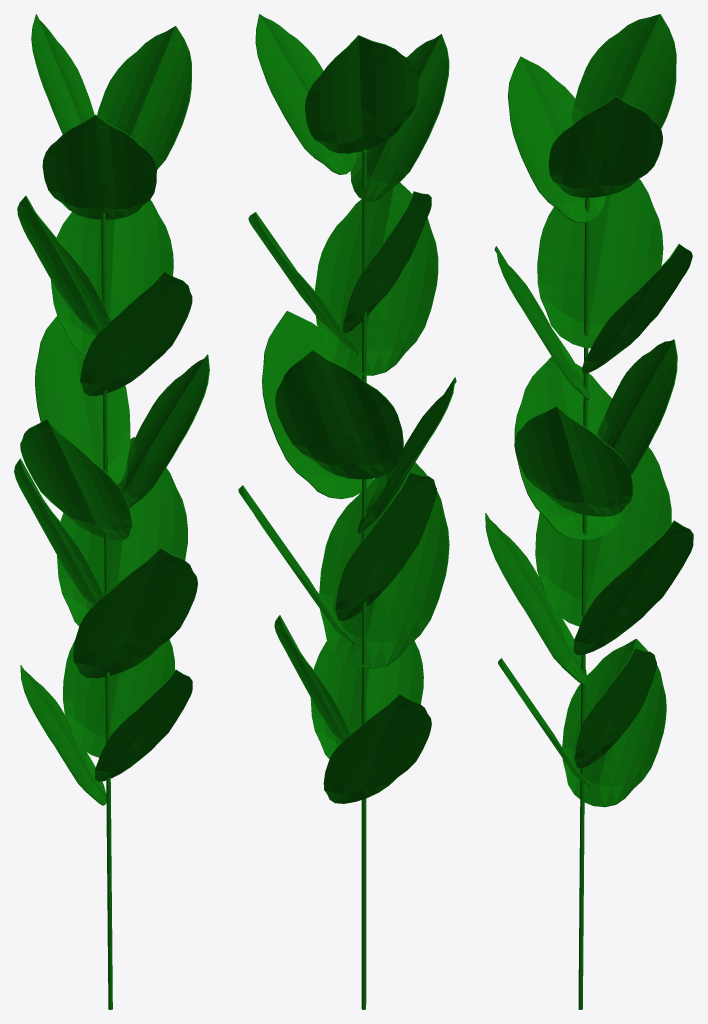
The model's file is ruskus.dae.
3 renders of one model, left to right at view 1: azimuth 30°, elevation 25°; view 2: azimuth 150°, elevation 25°; view 3: azimuth 270°, elevation 25°, orthographic. The views are drawn at different scales.
Visible parts, largest first — view 1: Plane_009; view 2: Plane_009; view 3: Plane_009.
Part boxes in pixels (bbox=[...]): Plane_009: bbox=[14, 14, 209, 1009]; Plane_009: bbox=[238, 14, 456, 1009]; Plane_009: bbox=[485, 14, 693, 1009].
Size of the model in its own units: 3.65 by 3.83 by 19.78.
